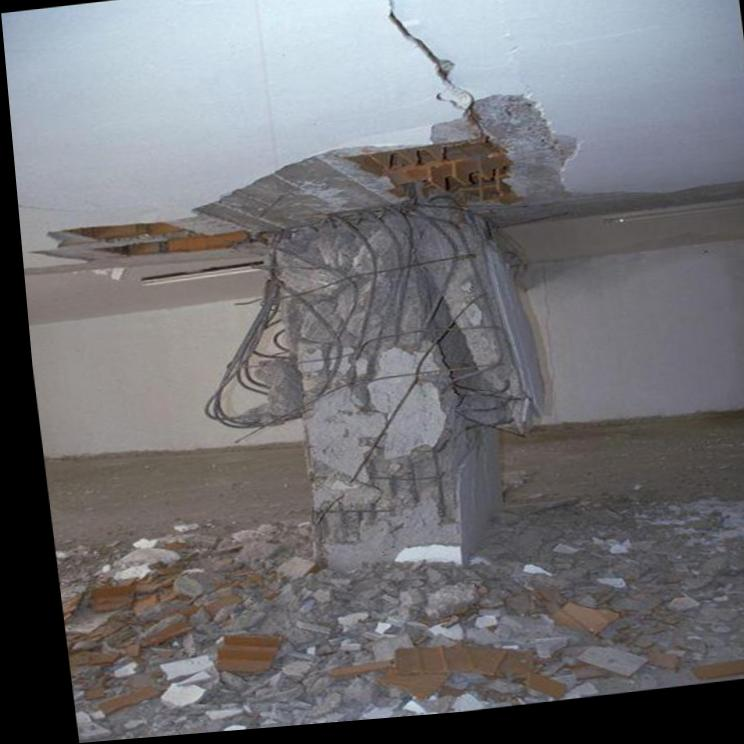crack: (379, 0, 481, 145), (14, 204, 62, 212)
damage: (43, 102, 572, 573)
